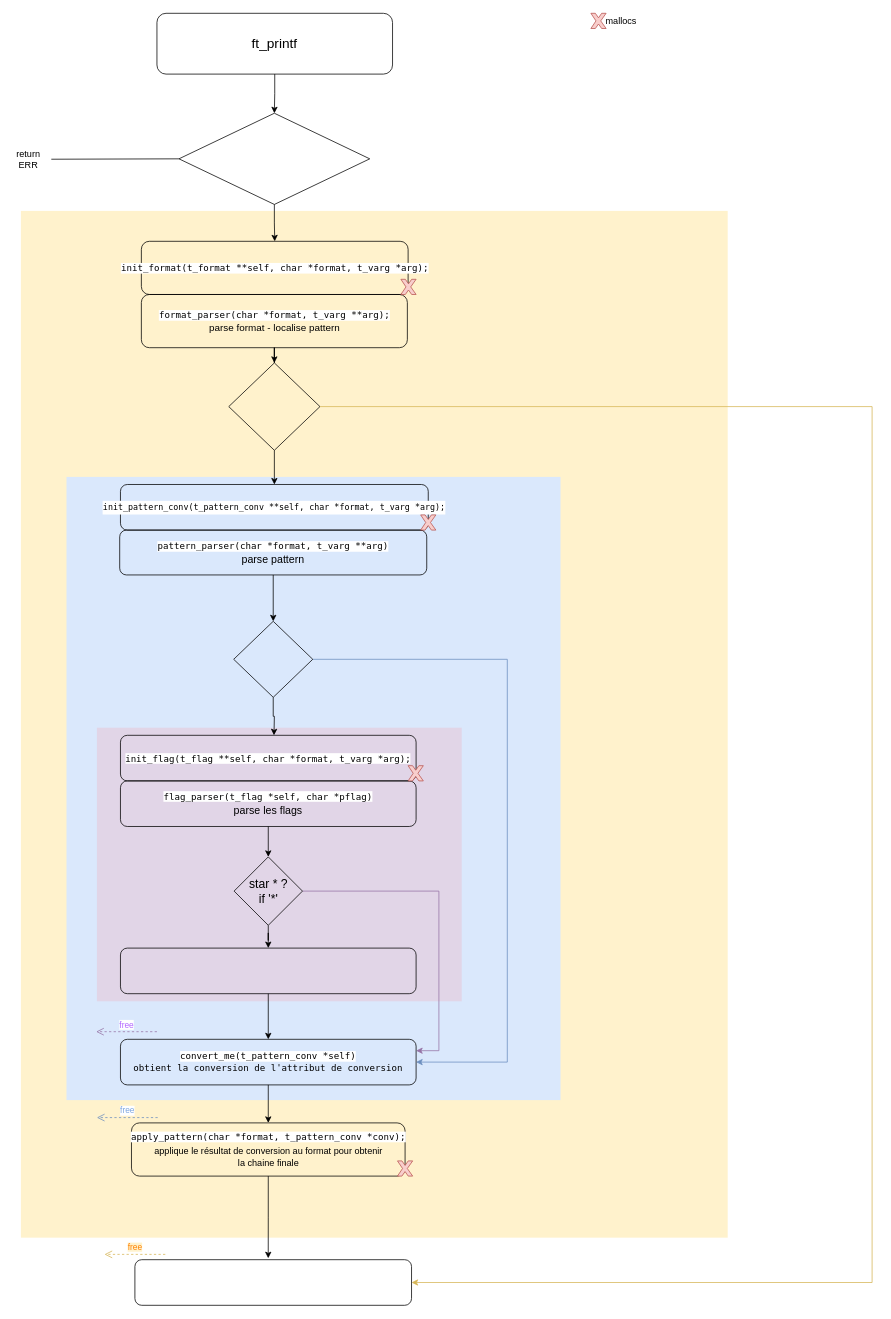
The diagram is 891 pixels wide and 1319 high, and some of its shapes have lost their labels. The centre of each missing label's shape, as x and y in pixels:
__attribute__((format(printf,1,2)));: [274,158]
change_precision(t_flag *self, t_varg *arg): [268,970]
Flags ? if ' -0.*': [273,659]
Pattern de Conversion ? if '%': [274,406]
write(char *format): [273,1282]
